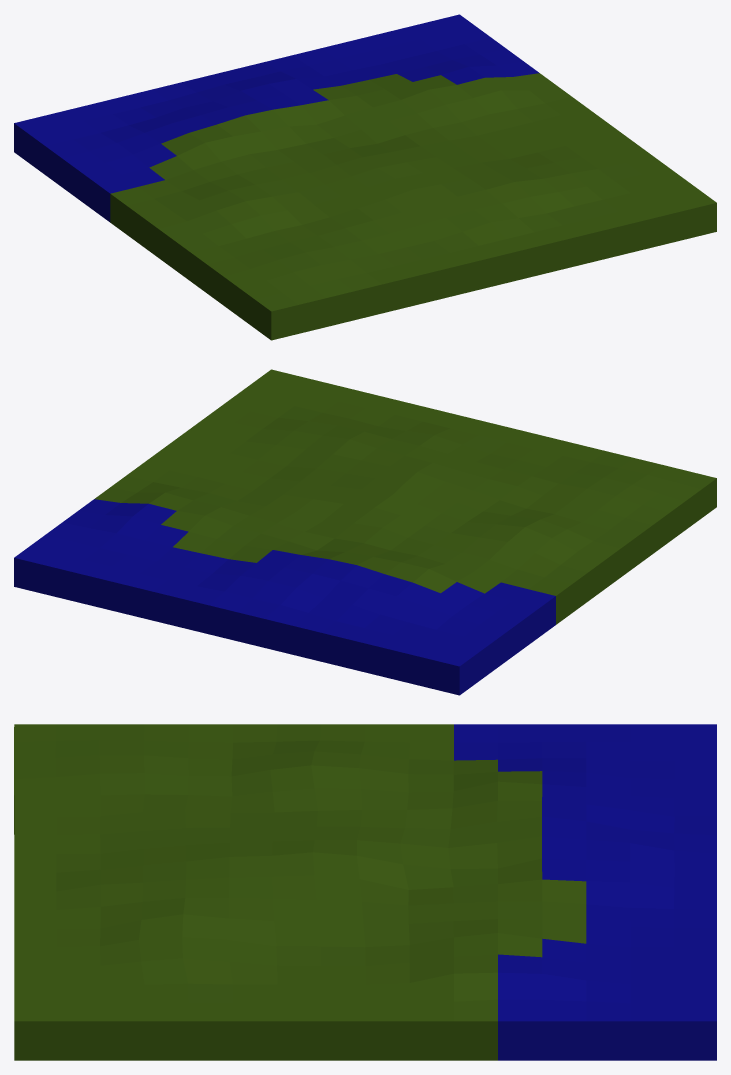
Rendered from GrassWater3.FBX.
The picture shows the model from 3 angles, top to bottom: view 1: azimuth 30°, elevation 25°; view 2: azimuth 150°, elevation 25°; view 3: azimuth 270°, elevation 25°; orthographic projection. The views are drawn at different scales.
Visible parts, largest first — view 1: Terrain.052; view 2: Terrain.052; view 3: Terrain.052.
Boxes of the visible parts, x1,y1,x2,y2 form: Terrain.052: [14, 14, 716, 340]; Terrain.052: [14, 369, 716, 695]; Terrain.052: [14, 724, 716, 1060].
Size of the model in its own units: 800 by 800 by 73.49.
